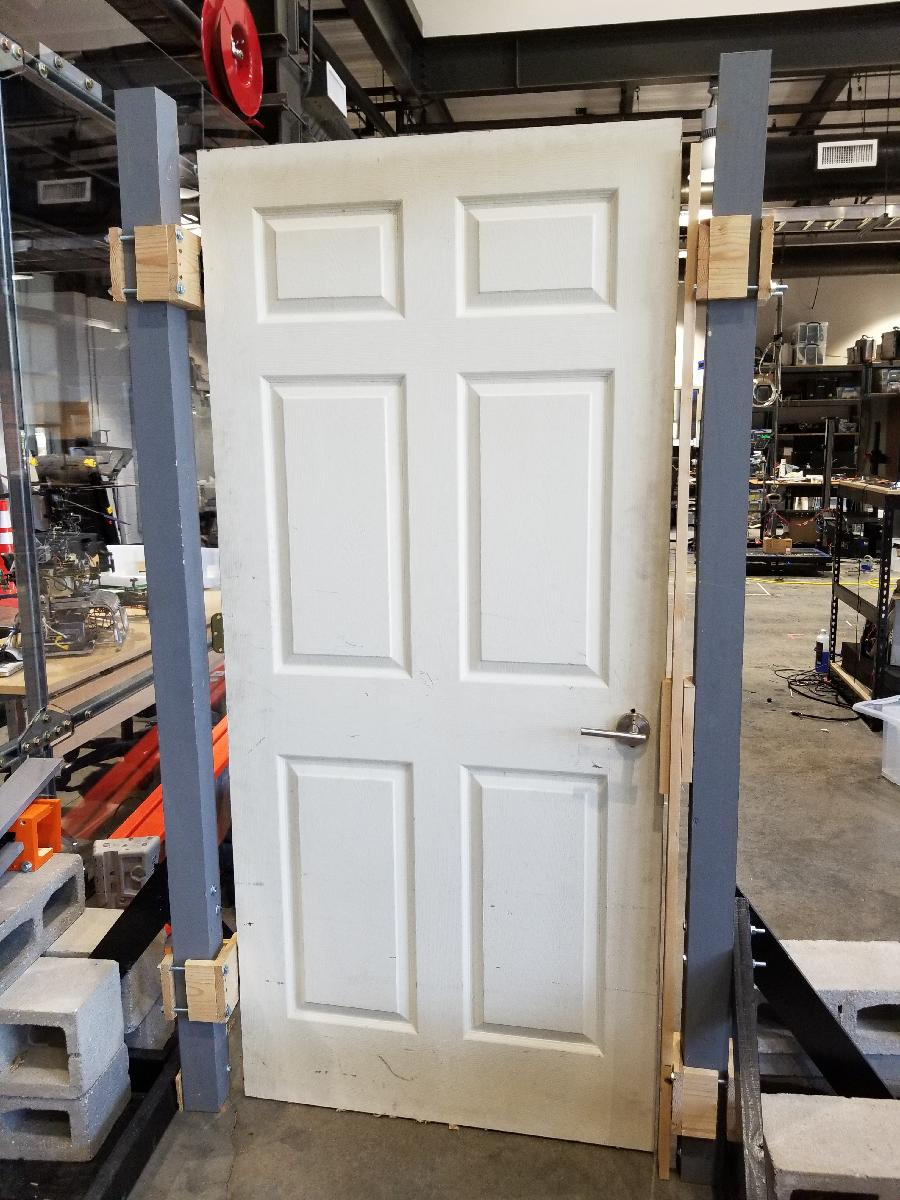door: (195, 113, 692, 1165)
doorHandle: (581, 706, 655, 755)
